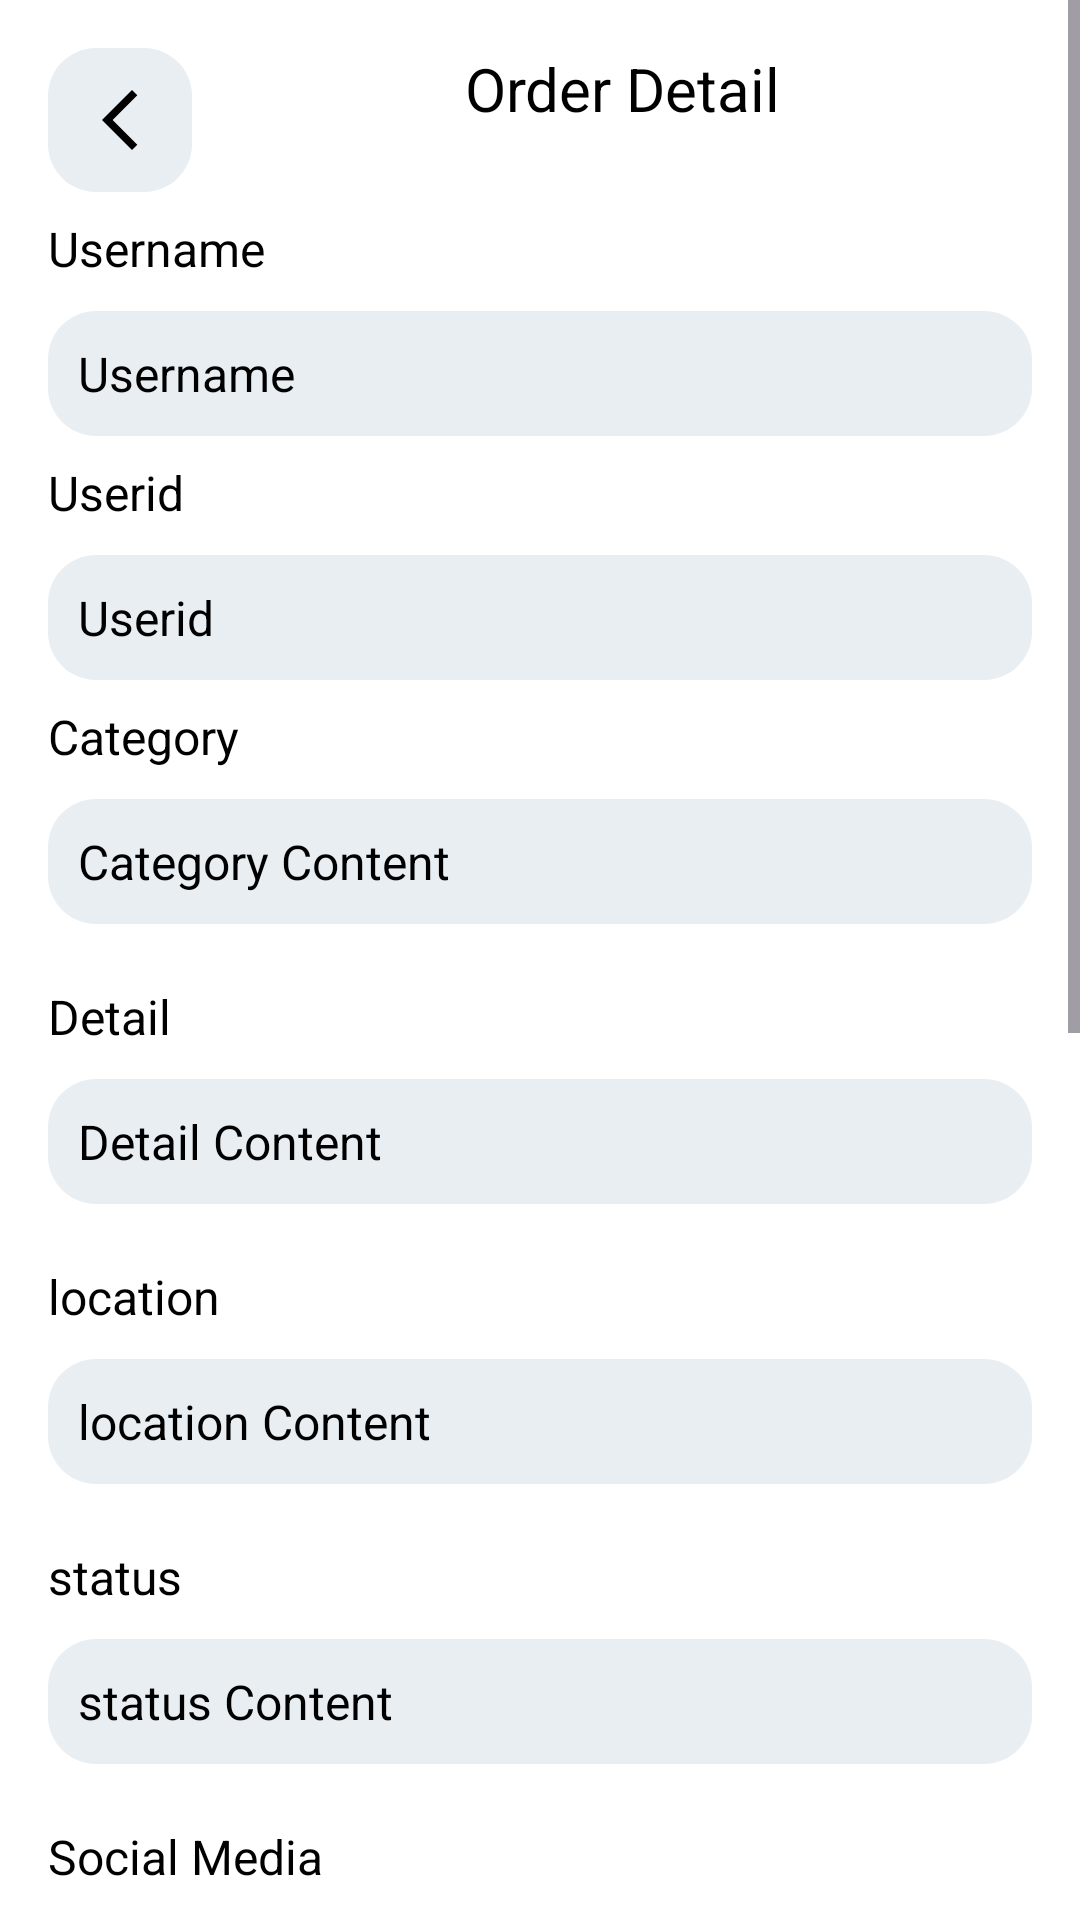

Named icons in this screenshot (1080px x 1920px) and their centers, (x=x, y=y):
Back Button: (x=120, y=120)
